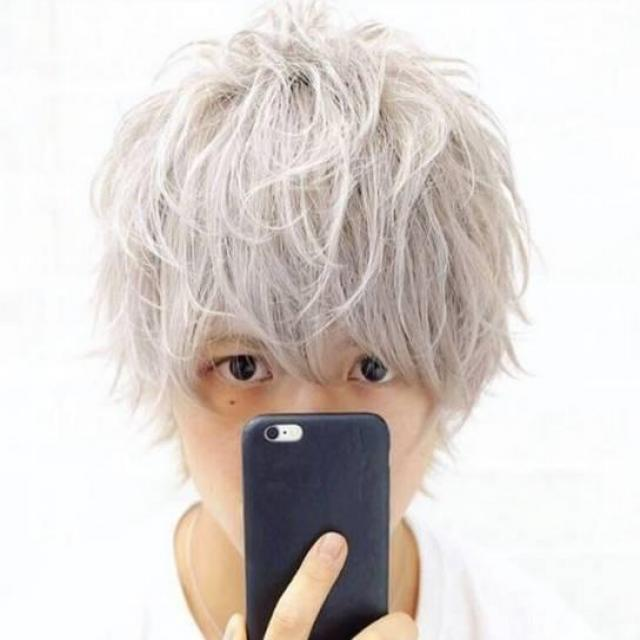nomask: (178, 231, 438, 574)
